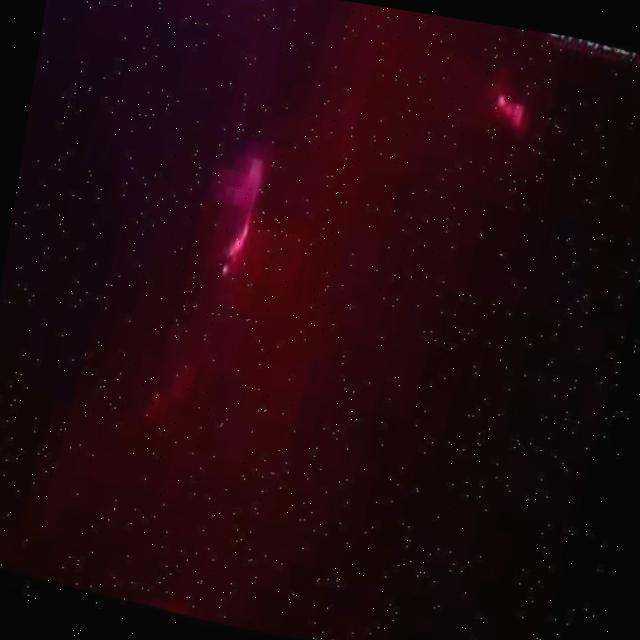fire: (129, 62, 346, 354)
